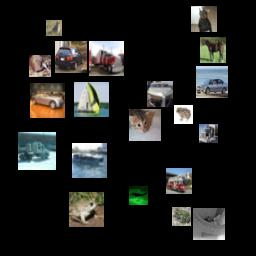airplane: (129, 186, 148, 205)
automobile: (30, 83, 65, 118), (196, 66, 228, 98), (55, 41, 87, 73)
bird: (29, 55, 51, 77), (46, 20, 62, 36)
cat: (129, 109, 161, 141), (193, 208, 225, 240)
dog: (191, 6, 217, 32)
frog: (69, 192, 104, 227), (174, 105, 193, 124), (172, 207, 191, 226)
ship: (72, 143, 107, 178), (74, 82, 109, 117), (147, 81, 173, 107)
truck: (18, 132, 56, 170), (89, 41, 124, 76), (166, 168, 192, 194), (199, 124, 218, 143)
